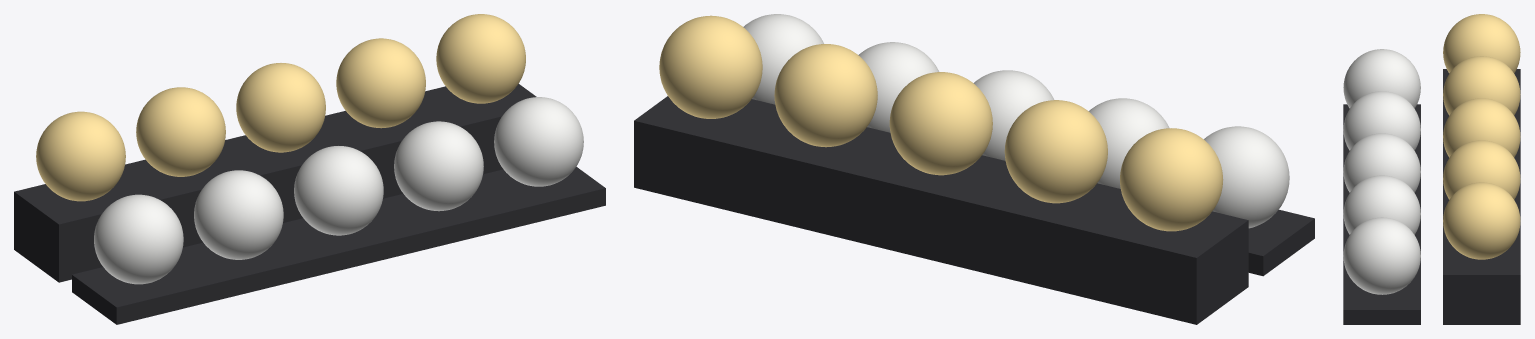
The model's file is MaterialSpheres.glb.
3 renders of one model, left to right at view 1: azimuth 30°, elevation 25°; view 2: azimuth 150°, elevation 25°; view 3: azimuth 270°, elevation 25°, orthographic. The views are drawn at different scales.
Visible parts, largest first — view 1: MaterialSpheres; view 2: MaterialSpheres; view 3: MaterialSpheres.
Part boxes in pixels (bbox=[...]): MaterialSpheres: bbox=[14, 14, 605, 324]; MaterialSpheres: bbox=[634, 14, 1314, 324]; MaterialSpheres: bbox=[1343, 14, 1520, 324].
Size of the model in its own units: 0.44 by 0.12 by 0.16.
